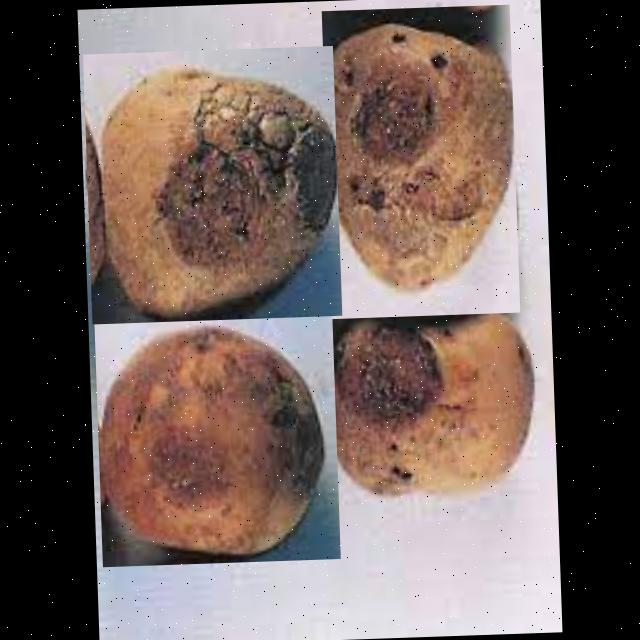Damaged potato: (82, 44, 342, 323), (321, 4, 520, 318), (94, 314, 340, 566), (321, 282, 544, 503)
